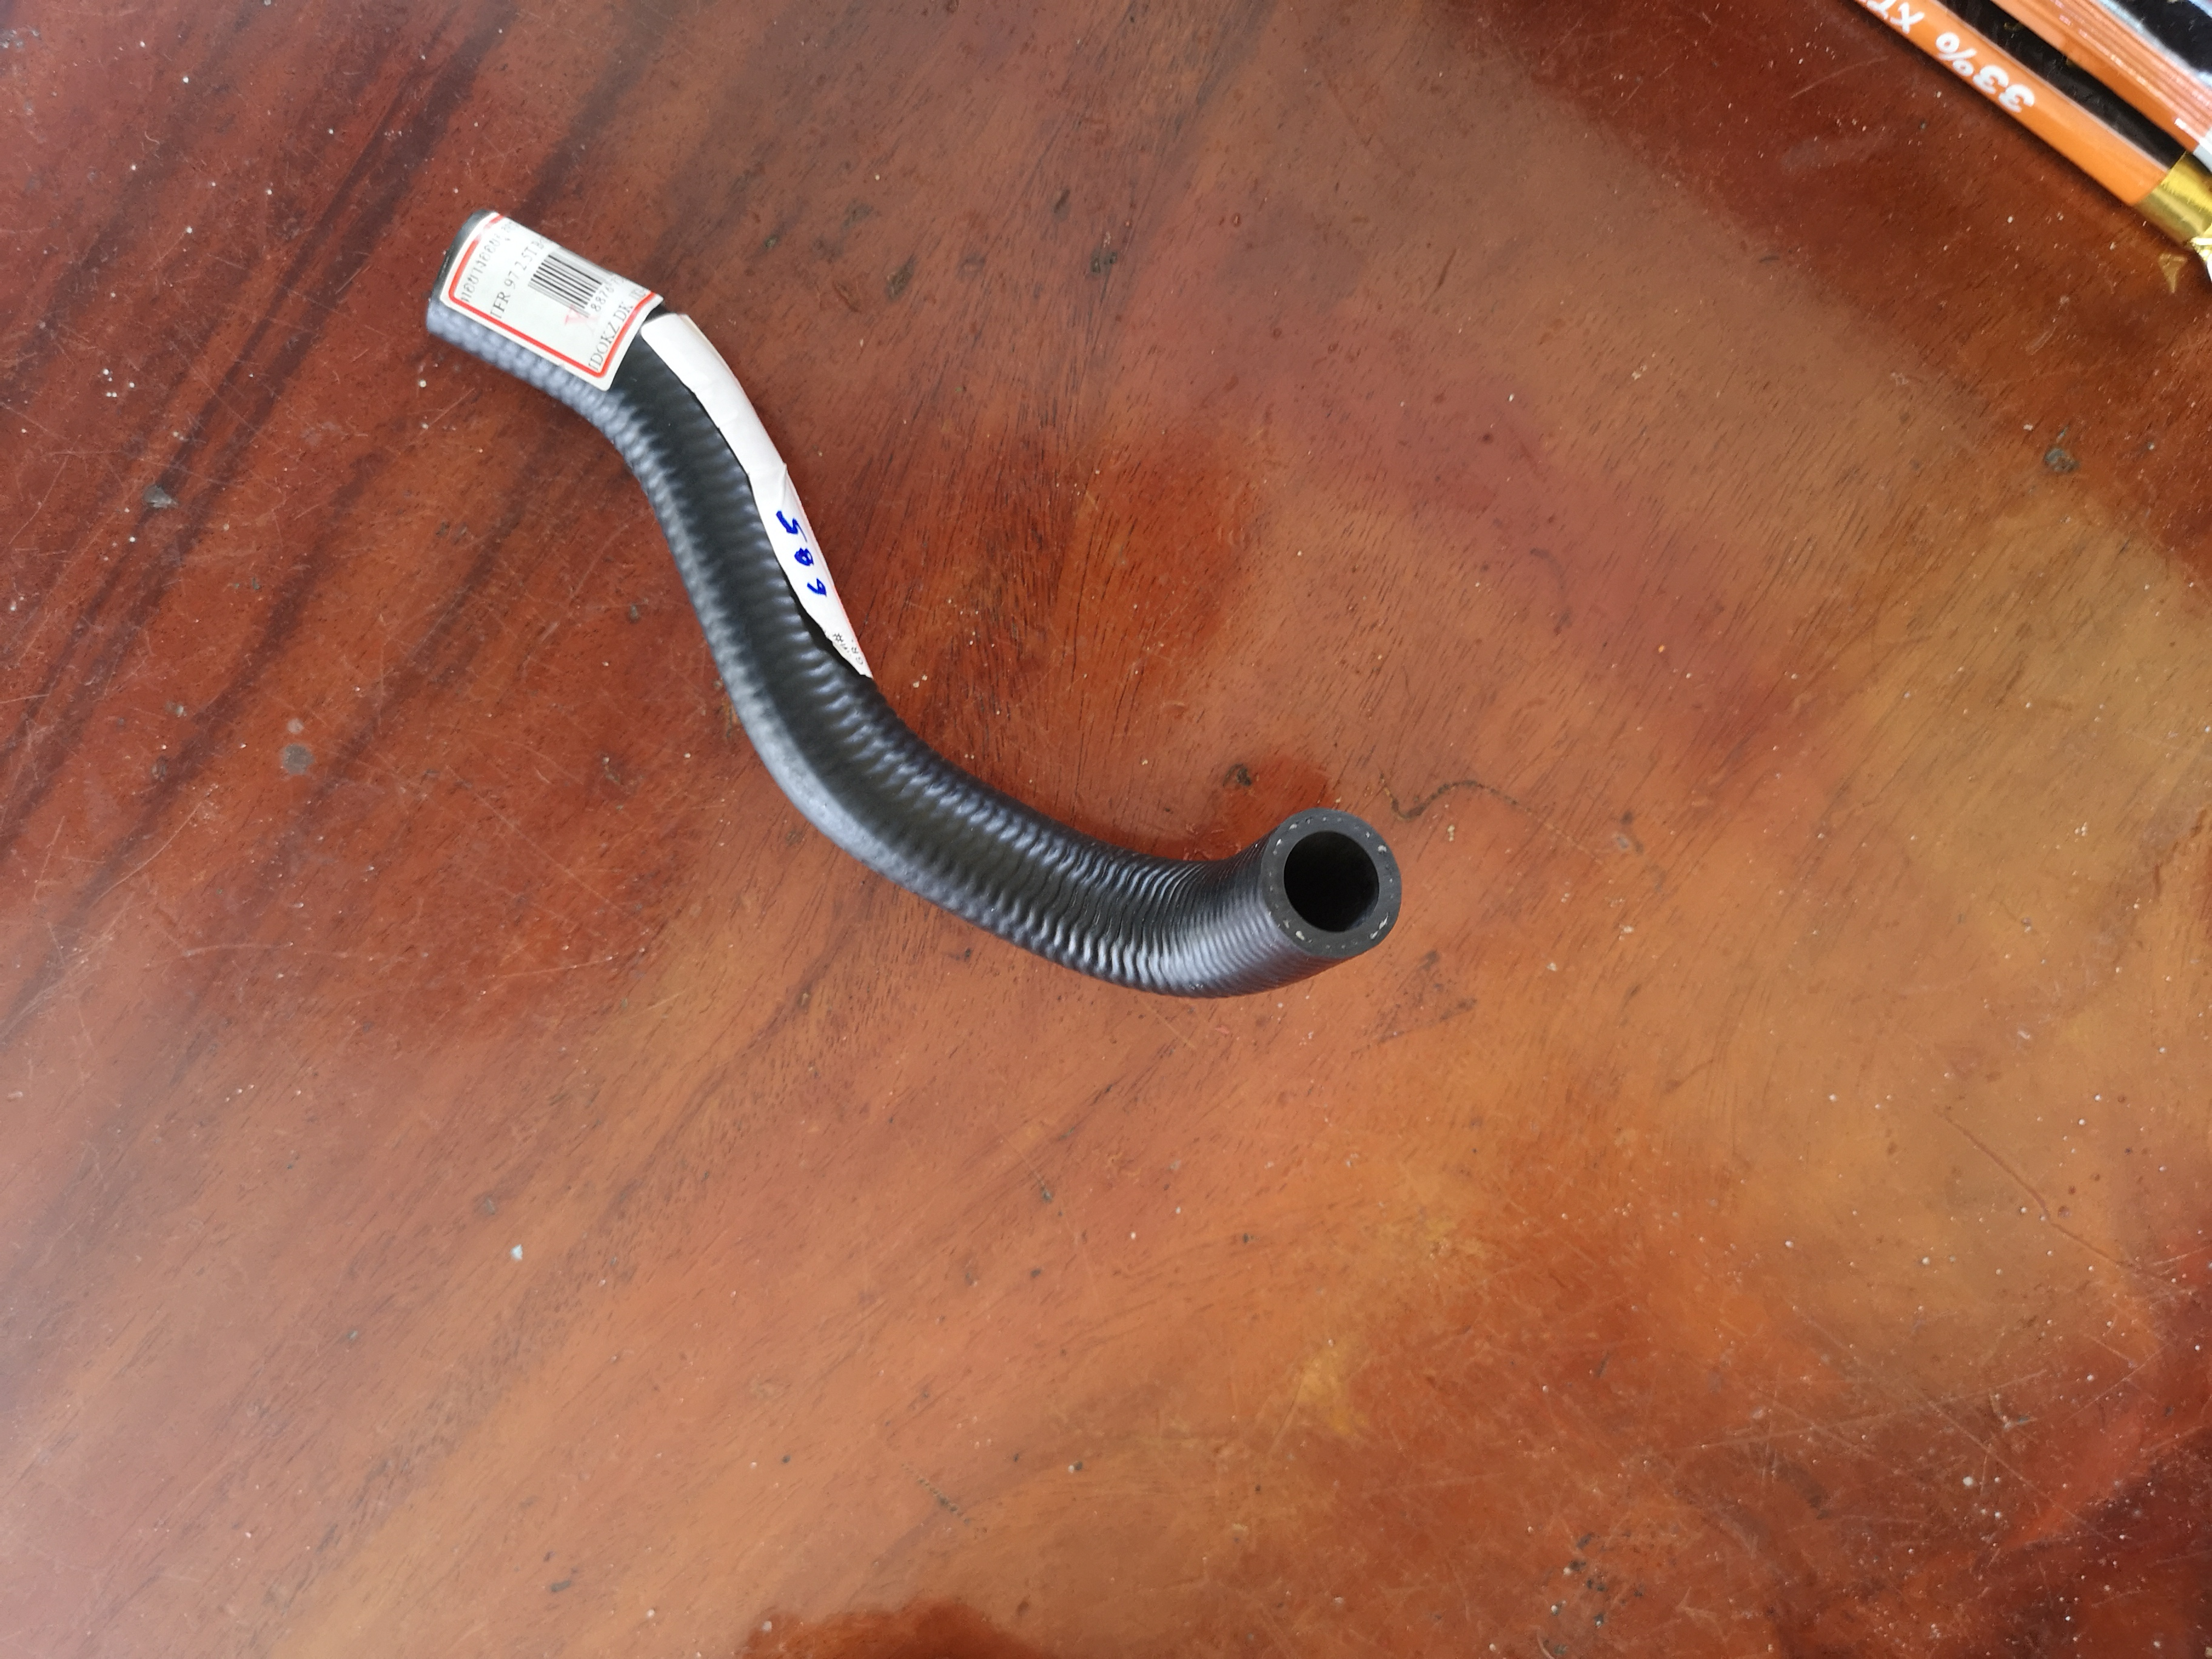ท่อยางน้ำมันเลี้ยงเทอร์โบ: (390, 167, 1440, 1035)
